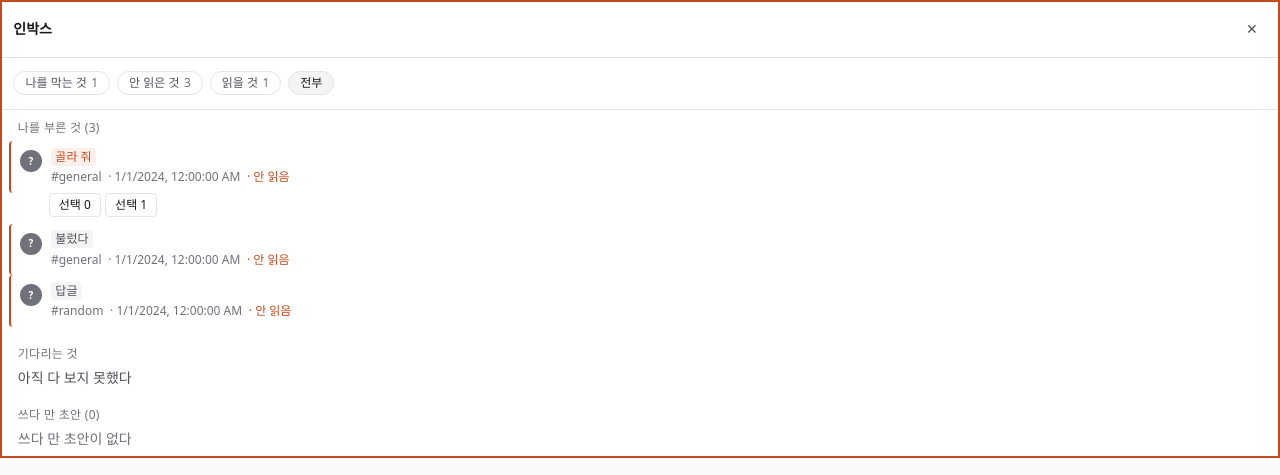
Test: Inbox (#185) › 칩으로 좁히면 안 맞는 줄이 빠진다
Check: the button with test id "inbox-entry-1" is shown, box [9, 141, 1271, 193]
Click the button with test id "inbox-filter-blocking" at (62, 83), box [13, 71, 110, 95]
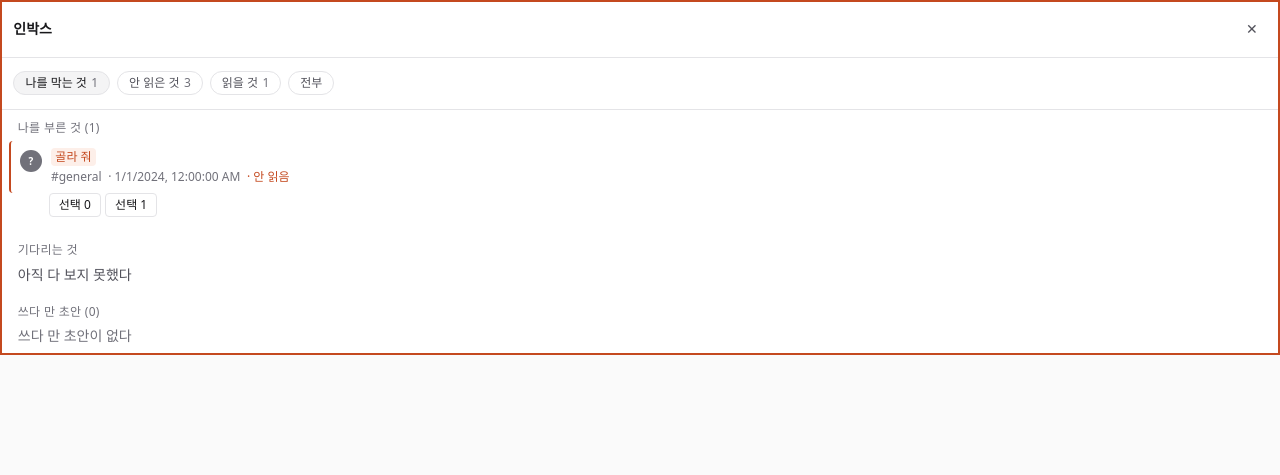
Check: the button with test id "inbox-entry-1" is shown, box [9, 141, 1271, 193]
Check: the button with test id "inbox-entry-2" is gone
Check: the button with test id "inbox-entry-3" is gone
Click the button with test id "inbox-filter-reading" at (246, 83), box [210, 71, 281, 95]
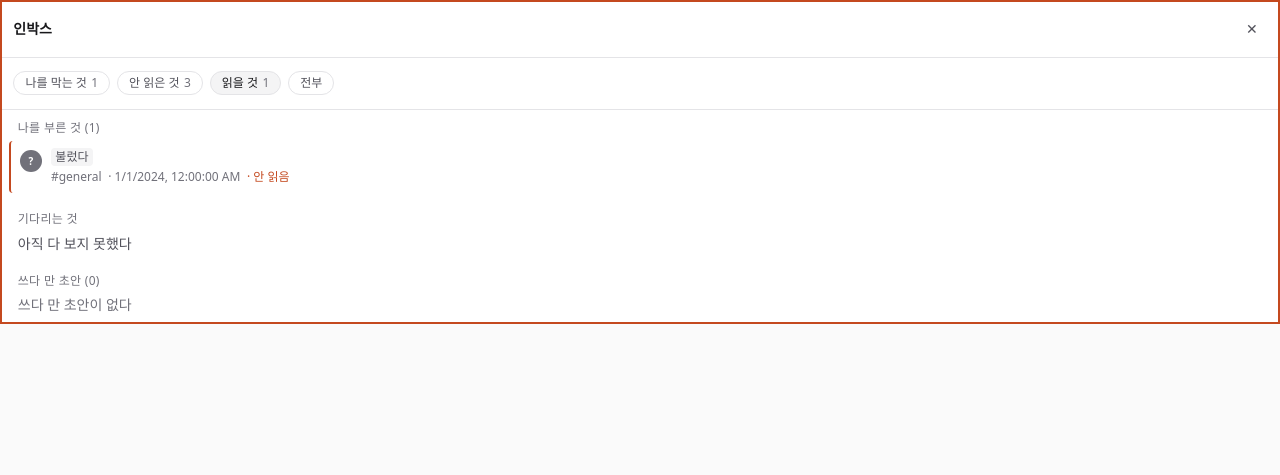
Check: the button with test id "inbox-entry-1" is gone
Check: the button with test id "inbox-entry-2" is shown, box [9, 141, 1271, 193]
# '전부'는 필터가 꺼진 상태다 — 배경까지 돌아온다.
Click the button with test id "inbox-filter-all" at (311, 83), box [288, 71, 334, 95]
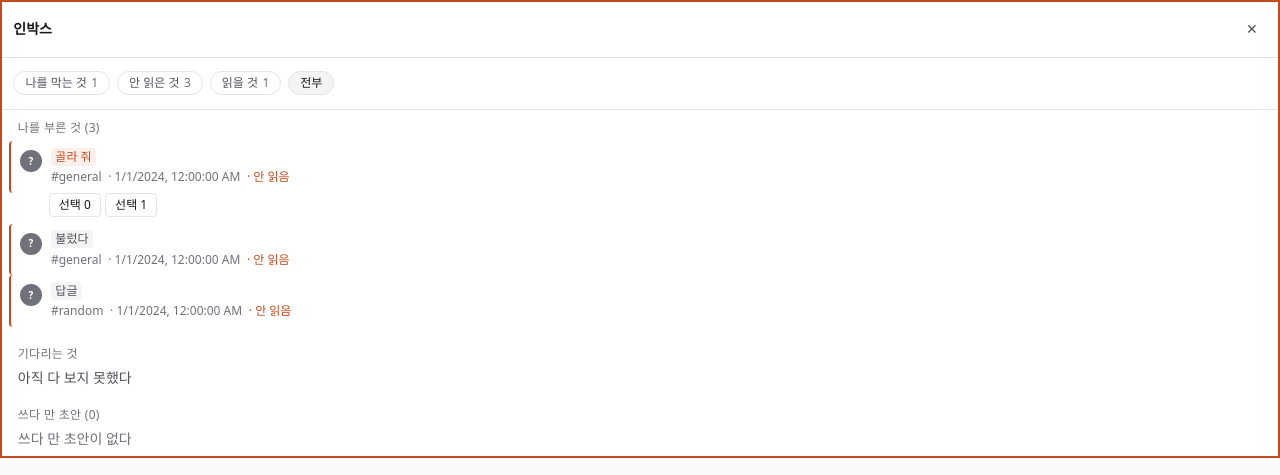
Check: the button with test id "inbox-entry-2" is shown, box [9, 224, 1271, 275]
Check: the button with test id "inbox-entry-1" is shown, box [9, 141, 1271, 193]
Check: the button with test id "inbox-entry-3" is shown, box [9, 275, 1271, 327]
